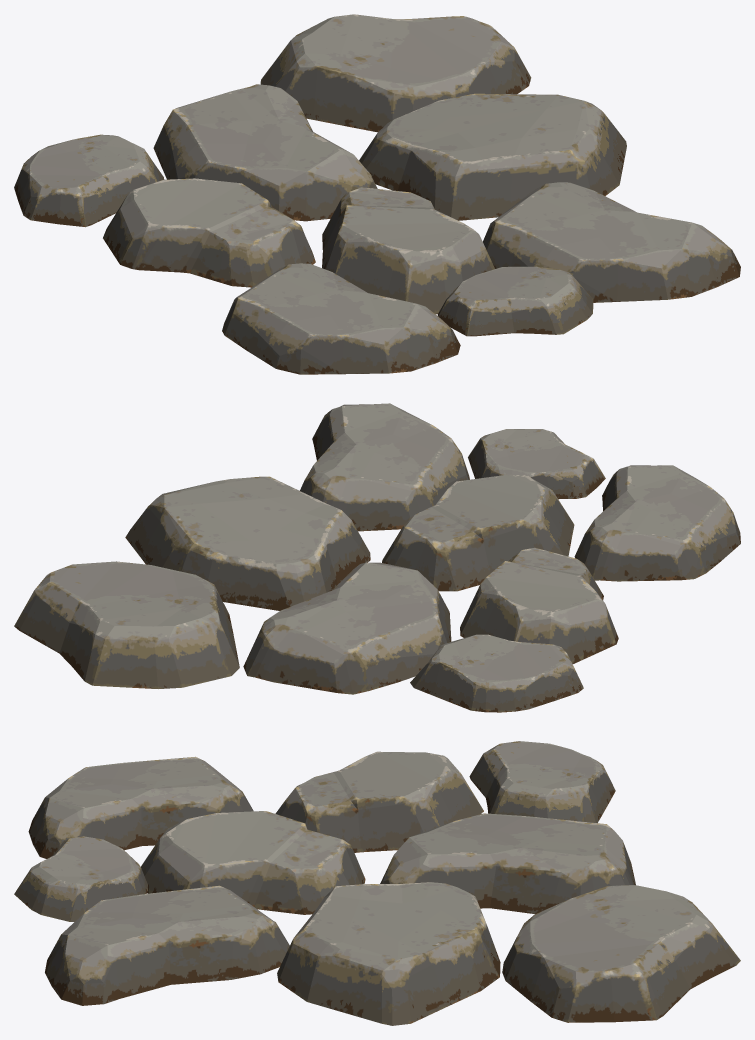
Rendered from RockPath_Round_Small_2__go_coast.glb.
3 renders of one model, top to bottom at view 1: azimuth 30°, elevation 25°; view 2: azimuth 150°, elevation 25°; view 3: azimuth 270°, elevation 25°, orthographic. The views are drawn at different scales.
Visible parts, largest first — view 1: RockPath_Round_Small_2; view 2: RockPath_Round_Small_2; view 3: RockPath_Round_Small_2.
Boxes of the visible parts, bbox=[...] form: RockPath_Round_Small_2: bbox=[14, 14, 740, 374]; RockPath_Round_Small_2: bbox=[14, 403, 740, 712]; RockPath_Round_Small_2: bbox=[14, 741, 740, 1025].
Size of the model in its own units: 1.14 by 0.1047 by 1.35.
Materials: 1 (1 with a texture image).
